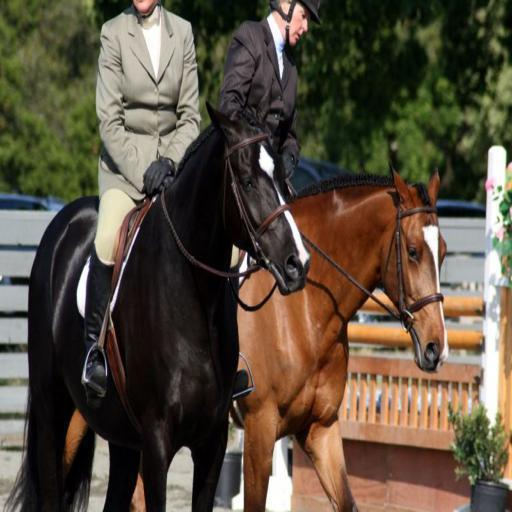horse: (64, 158, 450, 512), (0, 97, 311, 511)
